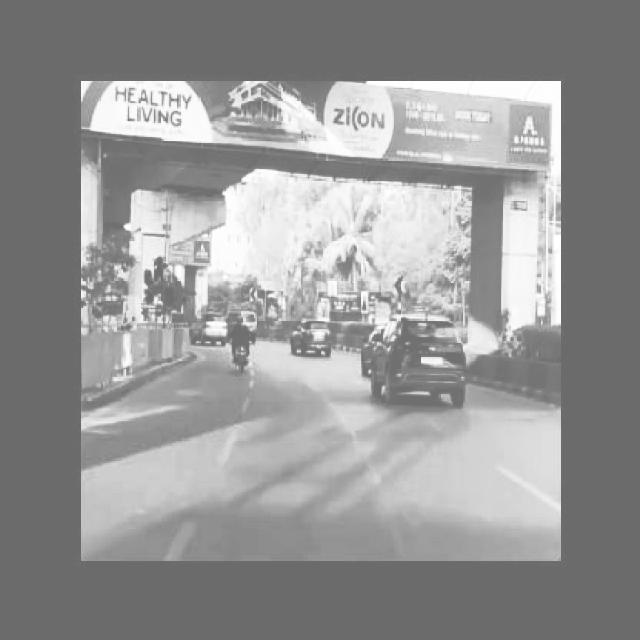Car: (374, 305, 480, 423), (288, 311, 340, 360), (189, 301, 232, 344)
